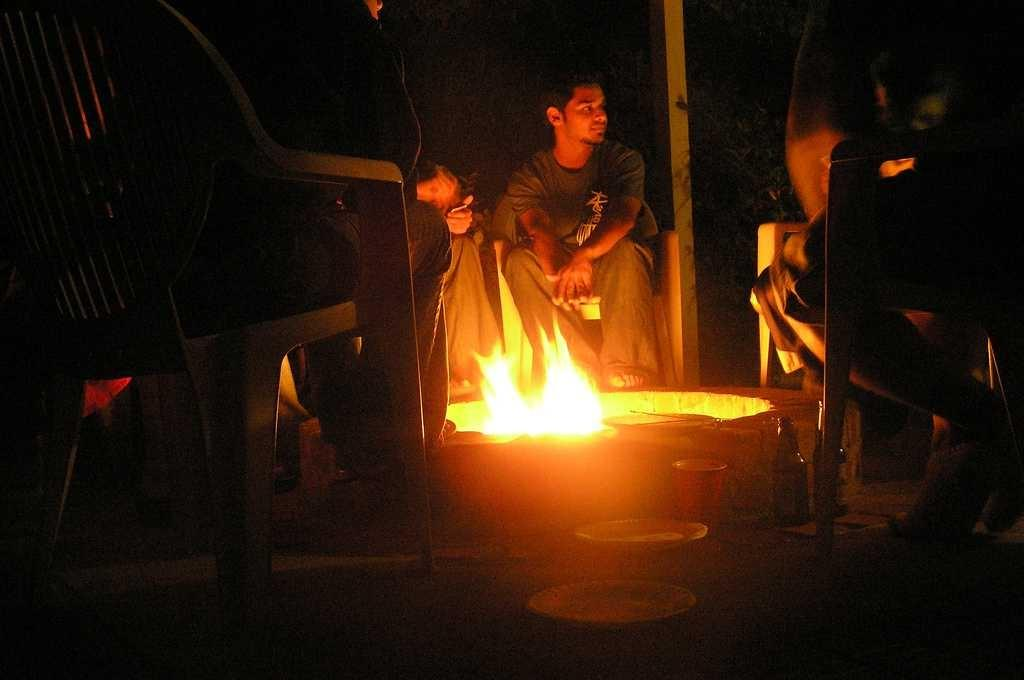fire: (468, 330, 620, 451)
